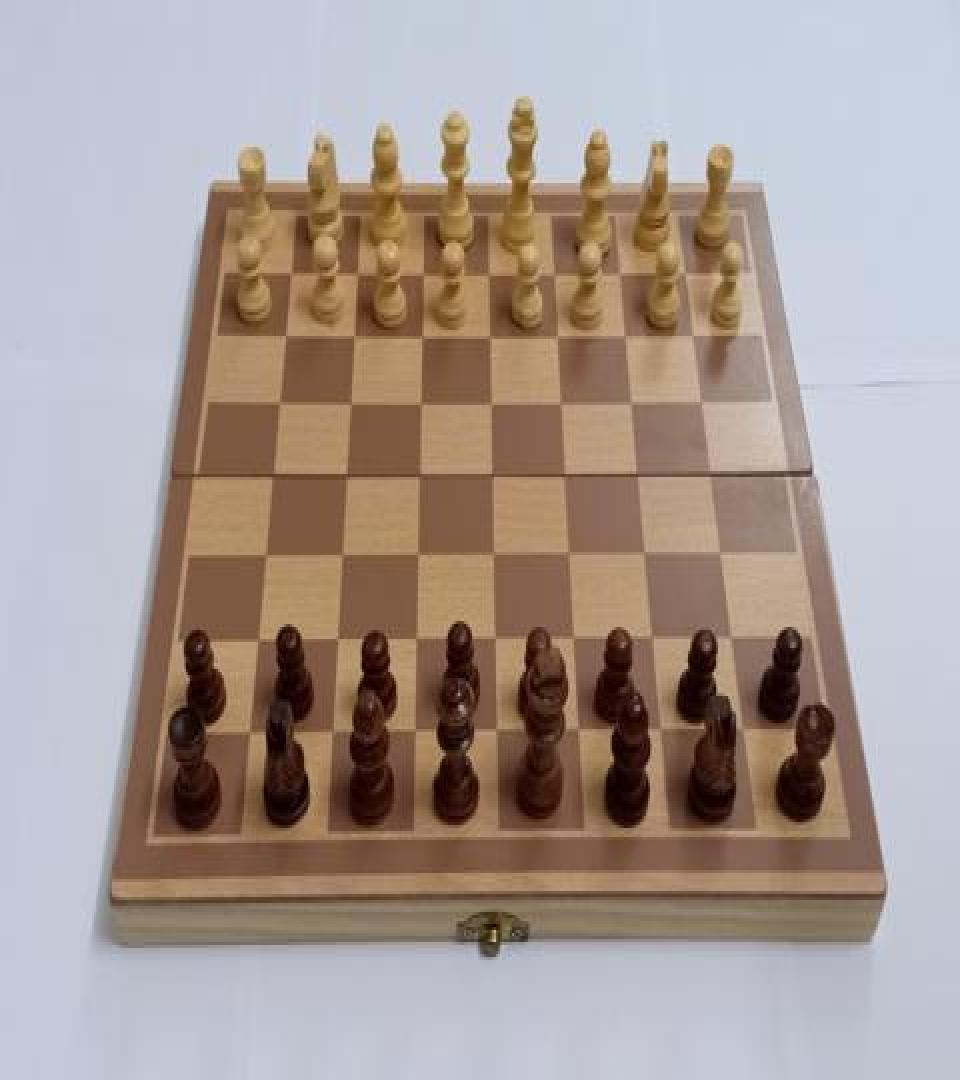xcorner: (482, 460, 504, 494), (408, 460, 430, 494), (334, 460, 356, 494), (259, 460, 281, 494), (738, 717, 760, 750), (726, 624, 748, 657), (714, 538, 736, 571), (703, 459, 725, 492), (684, 318, 706, 351), (675, 255, 697, 288), (656, 717, 678, 750), (646, 624, 668, 657), (638, 538, 660, 571), (630, 459, 652, 492), (616, 318, 638, 351), (573, 719, 595, 752), (561, 538, 583, 571), (556, 459, 578, 492), (547, 318, 569, 351), (489, 720, 511, 753), (484, 540, 506, 573), (478, 318, 500, 351), (405, 720, 427, 753), (406, 627, 428, 660), (407, 540, 429, 573), (409, 387, 431, 420), (410, 318, 432, 351), (326, 627, 348, 660), (330, 540, 352, 573), (337, 387, 359, 420), (340, 318, 362, 351), (236, 723, 258, 756), (244, 628, 266, 661), (265, 387, 287, 420), (271, 318, 293, 351), (693, 386, 715, 418), (622, 386, 644, 418), (609, 254, 631, 286), (567, 626, 589, 658), (552, 386, 574, 418), (543, 254, 565, 286), (487, 626, 509, 658), (480, 386, 502, 418), (477, 254, 499, 286), (410, 254, 432, 286), (321, 722, 343, 754), (343, 254, 365, 286), (252, 542, 274, 574), (276, 254, 298, 286)
